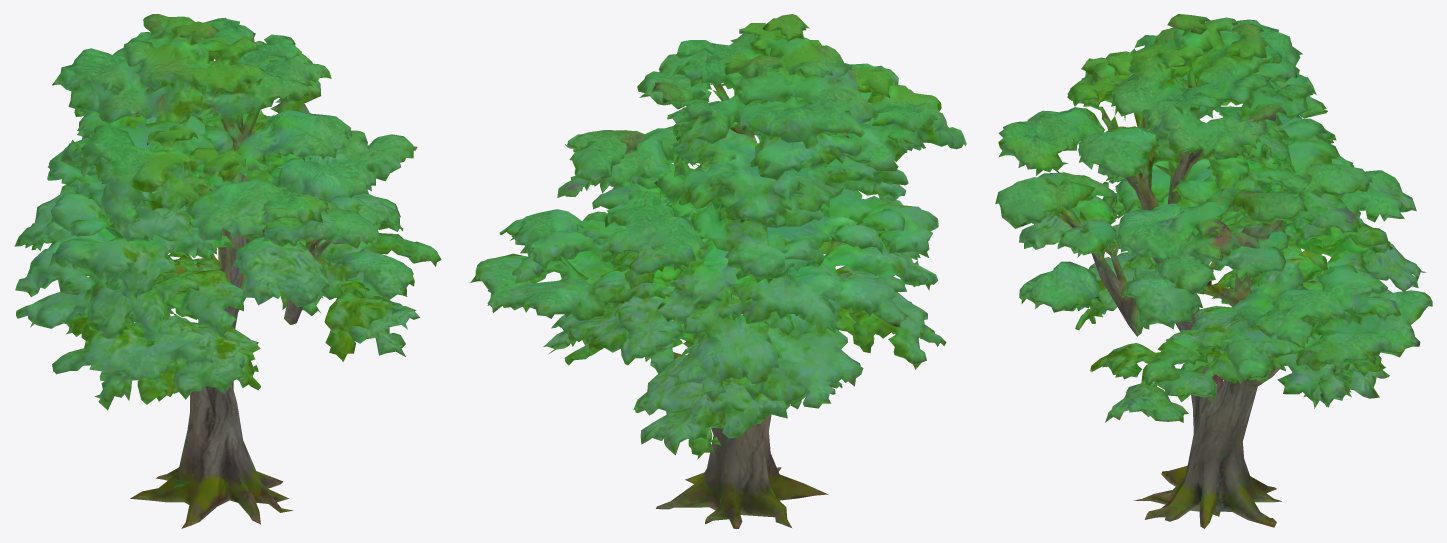
File: lush-canopy-oak.glb
The picture shows the model from 3 angles, left to right: view 1: azimuth 30°, elevation 25°; view 2: azimuth 150°, elevation 25°; view 3: azimuth 270°, elevation 25°; orthographic projection. The views are drawn at different scales.
Visible parts, largest first — view 1: mesh_node; view 2: mesh_node; view 3: mesh_node.
Part boxes in pixels (left/top/right/bottom): mesh_node: left=14, top=14, right=441, bottom=528; mesh_node: left=470, top=14, right=966, bottom=528; mesh_node: left=995, top=14, right=1432, bottom=528.
Size of the model in its own units: 4.93 by 6 by 5.07.
Materials: 1 (1 with a texture image).
